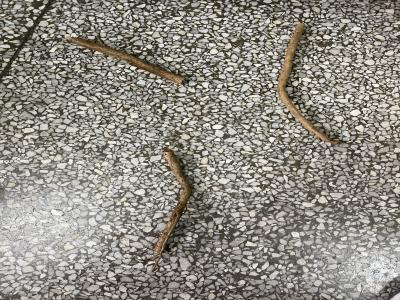Root: (277, 23, 341, 144), (65, 37, 185, 84), (147, 149, 192, 260)
